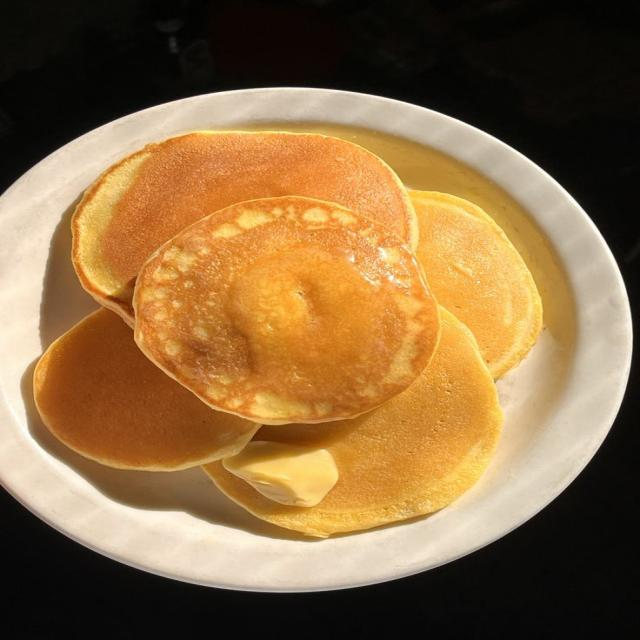pancake: (134, 197, 439, 424), (204, 310, 502, 536), (72, 132, 417, 324), (34, 310, 259, 471), (410, 191, 542, 379)
